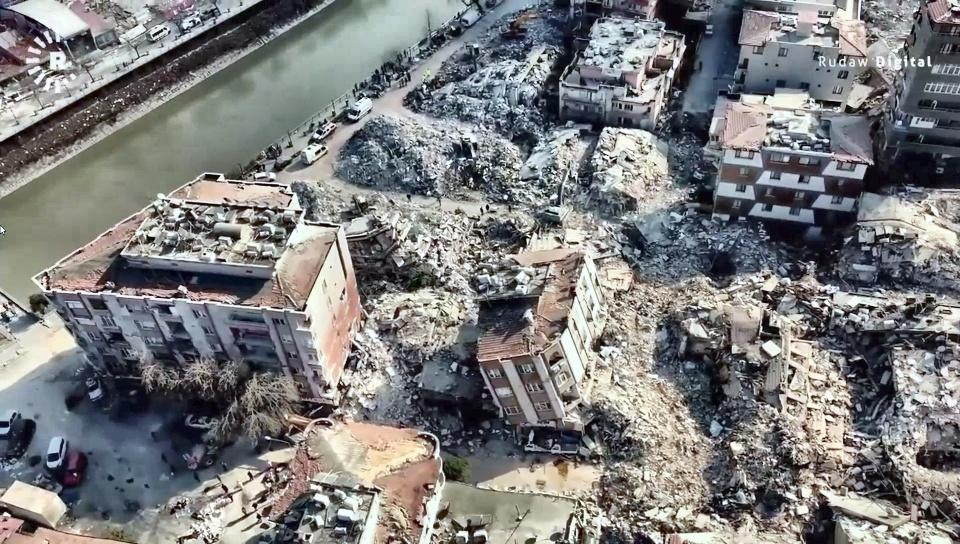kapali: (575, 90, 717, 463), (549, 453, 959, 543)
